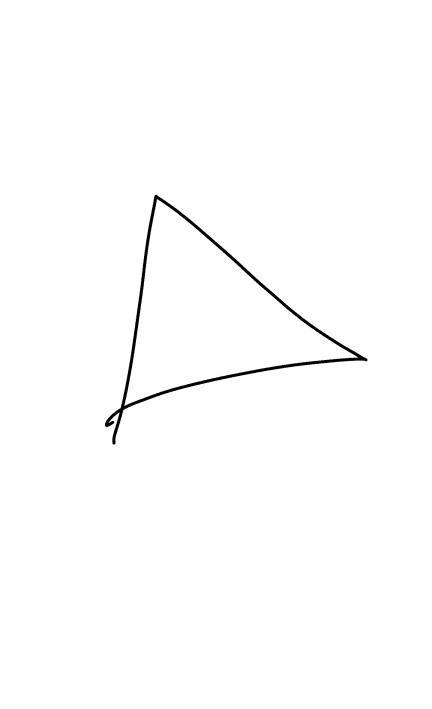Triangle: (98, 191, 375, 448)
